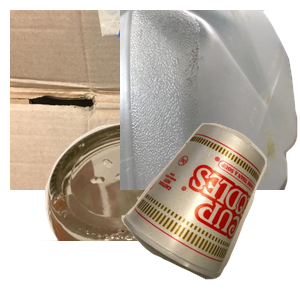cardboard: (10, 10, 250, 190)
glass: (22, 120, 233, 300)
plastic: (120, 10, 300, 190)
trash: (119, 121, 300, 300)
